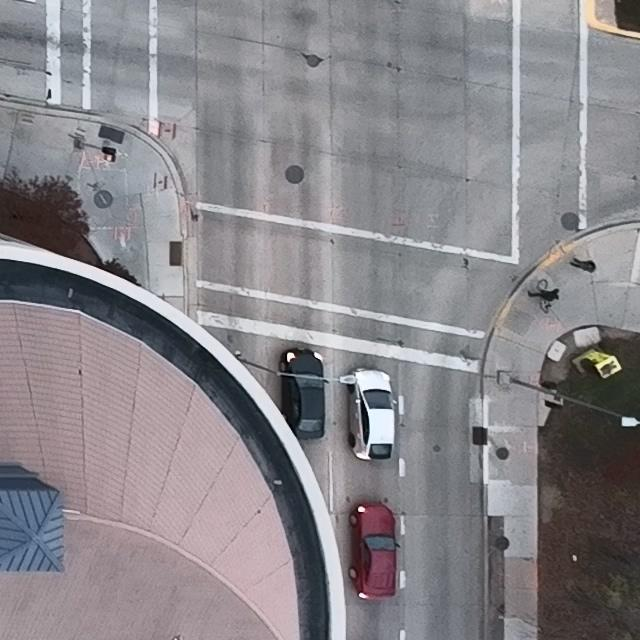car: (348, 503, 401, 600), (346, 367, 397, 461), (279, 348, 330, 439)
